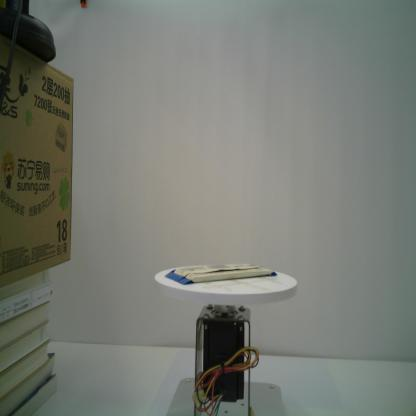Chocolate: (164, 262, 278, 284)
